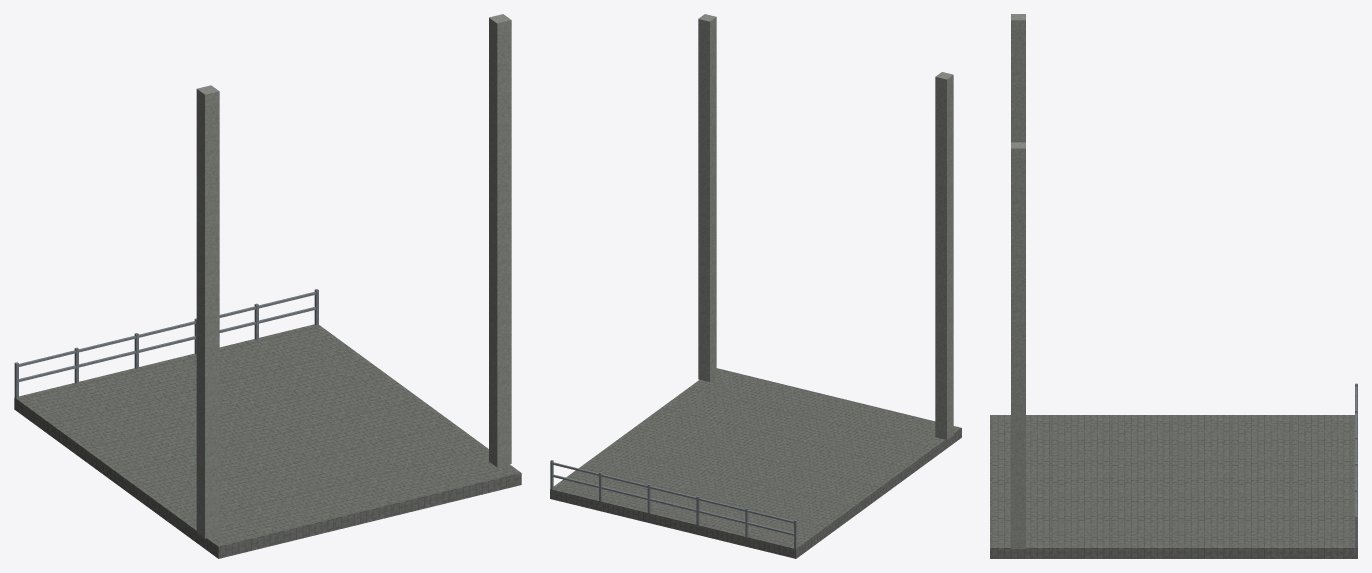
Rendered from PZ_Stadium_Concourse_Bay_10p5M.glb.
The picture shows the model from 3 angles, left to right: view 1: azimuth 30°, elevation 25°; view 2: azimuth 150°, elevation 25°; view 3: azimuth 270°, elevation 25°; orthographic projection. The views are drawn at different scales.
Parts seen in each view (by area): view 1: WALKABLE_CONCOURSE_STRAIGHT_BAY__CONCOURSE_WALKABLE_FLOOR, WALKABLE_CONCOURSE_STRAIGHT_BAY__CONCOURSE_COLUMNS, WALKABLE_CONCOURSE_STRAIGHT_BAY__CONCOURSE_SAFETY_RAILS, WALKABLE_CONCOURSE_STRAIGHT_BAY__CONCOURSE_BARRIER_POSTS; view 2: WALKABLE_CONCOURSE_STRAIGHT_BAY__CONCOURSE_WALKABLE_FLOOR, WALKABLE_CONCOURSE_STRAIGHT_BAY__CONCOURSE_COLUMNS, WALKABLE_CONCOURSE_STRAIGHT_BAY__CONCOURSE_SAFETY_RAILS, WALKABLE_CONCOURSE_STRAIGHT_BAY__CONCOURSE_BARRIER_POSTS; view 3: WALKABLE_CONCOURSE_STRAIGHT_BAY__CONCOURSE_WALKABLE_FLOOR, WALKABLE_CONCOURSE_STRAIGHT_BAY__CONCOURSE_COLUMNS.
Boxes of the visible parts, box(x1,y1,x2,y2) form: WALKABLE_CONCOURSE_STRAIGHT_BAY__CONCOURSE_WALKABLE_FLOOR: box(14, 324, 521, 558); WALKABLE_CONCOURSE_STRAIGHT_BAY__CONCOURSE_COLUMNS: box(196, 14, 511, 538); WALKABLE_CONCOURSE_STRAIGHT_BAY__CONCOURSE_SAFETY_RAILS: box(19, 291, 315, 381); WALKABLE_CONCOURSE_STRAIGHT_BAY__CONCOURSE_BARRIER_POSTS: box(14, 289, 318, 398); WALKABLE_CONCOURSE_STRAIGHT_BAY__CONCOURSE_WALKABLE_FLOOR: box(550, 368, 961, 558); WALKABLE_CONCOURSE_STRAIGHT_BAY__CONCOURSE_COLUMNS: box(698, 14, 953, 439); WALKABLE_CONCOURSE_STRAIGHT_BAY__CONCOURSE_SAFETY_RAILS: box(552, 462, 793, 535); WALKABLE_CONCOURSE_STRAIGHT_BAY__CONCOURSE_BARRIER_POSTS: box(550, 460, 797, 548); WALKABLE_CONCOURSE_STRAIGHT_BAY__CONCOURSE_WALKABLE_FLOOR: box(990, 415, 1357, 558); WALKABLE_CONCOURSE_STRAIGHT_BAY__CONCOURSE_COLUMNS: box(1011, 14, 1025, 548).
Size of the model in its own units: 10.62 by 15.1 by 12.25.
Materials: 3 (3 with a texture image).
